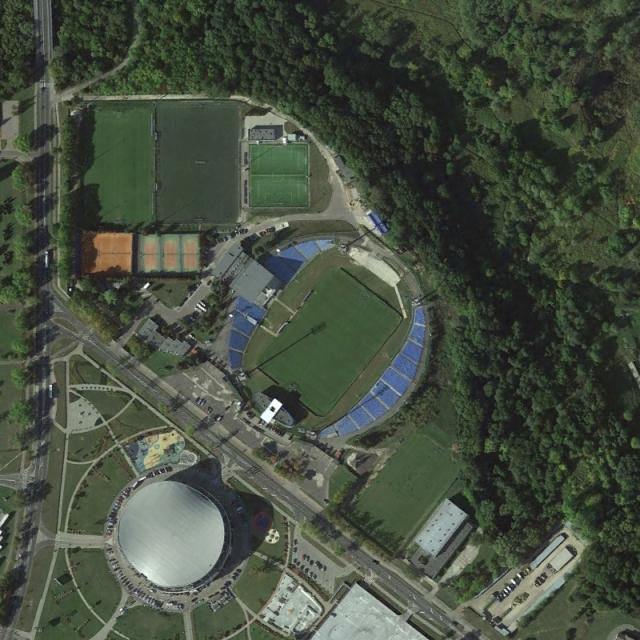vehicle: (196, 303, 207, 313), (45, 251, 49, 269), (510, 578, 518, 587), (49, 384, 53, 398), (516, 573, 523, 581), (503, 588, 510, 594), (106, 518, 114, 523), (506, 586, 512, 592), (197, 398, 202, 405), (201, 399, 206, 406), (292, 547, 297, 554), (322, 498, 327, 505), (149, 589, 156, 594), (166, 602, 174, 606), (207, 408, 212, 414), (258, 419, 263, 425), (259, 421, 265, 426), (275, 428, 280, 434), (309, 560, 314, 566), (318, 563, 322, 570), (305, 555, 309, 562), (302, 554, 306, 561), (163, 466, 167, 473), (189, 334, 194, 339), (205, 406, 210, 411), (270, 426, 275, 431), (158, 469, 163, 474), (122, 493, 127, 498), (222, 236, 226, 242), (229, 233, 233, 239), (234, 230, 238, 236), (267, 228, 271, 234), (314, 561, 318, 567), (312, 574, 316, 580), (304, 568, 308, 574), (293, 539, 297, 545), (167, 466, 171, 472), (152, 470, 156, 476), (116, 500, 122, 504), (113, 506, 119, 510), (106, 529, 114, 532), (146, 598, 150, 604), (309, 571, 312, 578), (114, 503, 121, 506), (215, 238, 219, 243), (265, 229, 269, 234), (278, 429, 282, 434), (300, 565, 304, 570), (238, 230, 241, 235), (322, 566, 325, 571)
